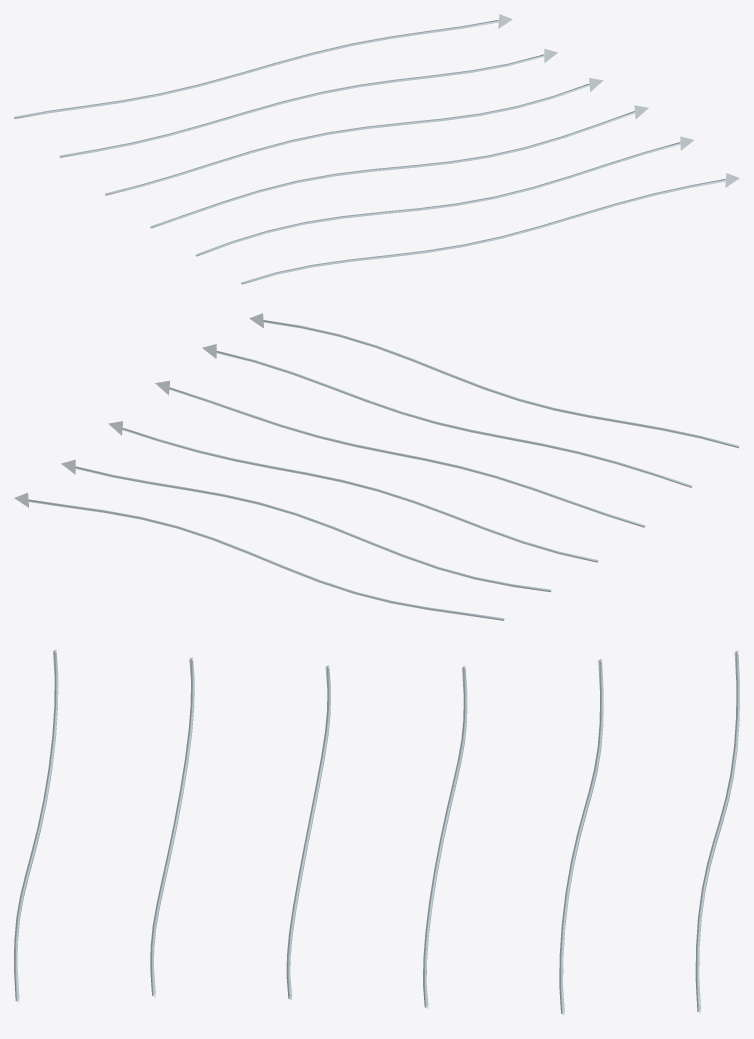
The model's file is lake-seiche-shallows-0.glb.
3 renders of one model, top to bottom at view 1: azimuth 30°, elevation 25°; view 2: azimuth 150°, elevation 25°; view 3: azimuth 270°, elevation 25°, orthographic. The views are drawn at different scales.
Visible parts, largest first — view 1: lake-seiche-shallows-0; view 2: lake-seiche-shallows-0; view 3: lake-seiche-shallows-0.
Boxes of the visible parts, box(x1,y1,x2,y2) form: lake-seiche-shallows-0: box(14, 14, 739, 284); lake-seiche-shallows-0: box(14, 313, 739, 620); lake-seiche-shallows-0: box(14, 649, 739, 1014).
Bounding box in the file's own units: 4.12 × 0.2174 × 3.55.
